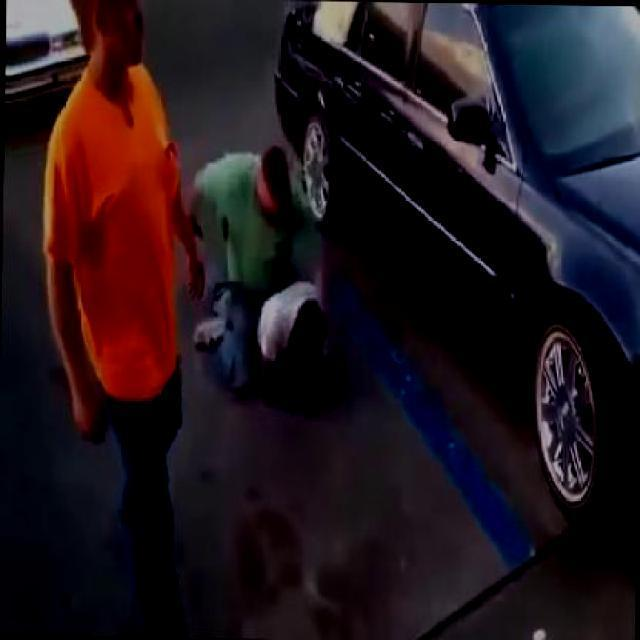fight: (185, 148, 341, 410)
